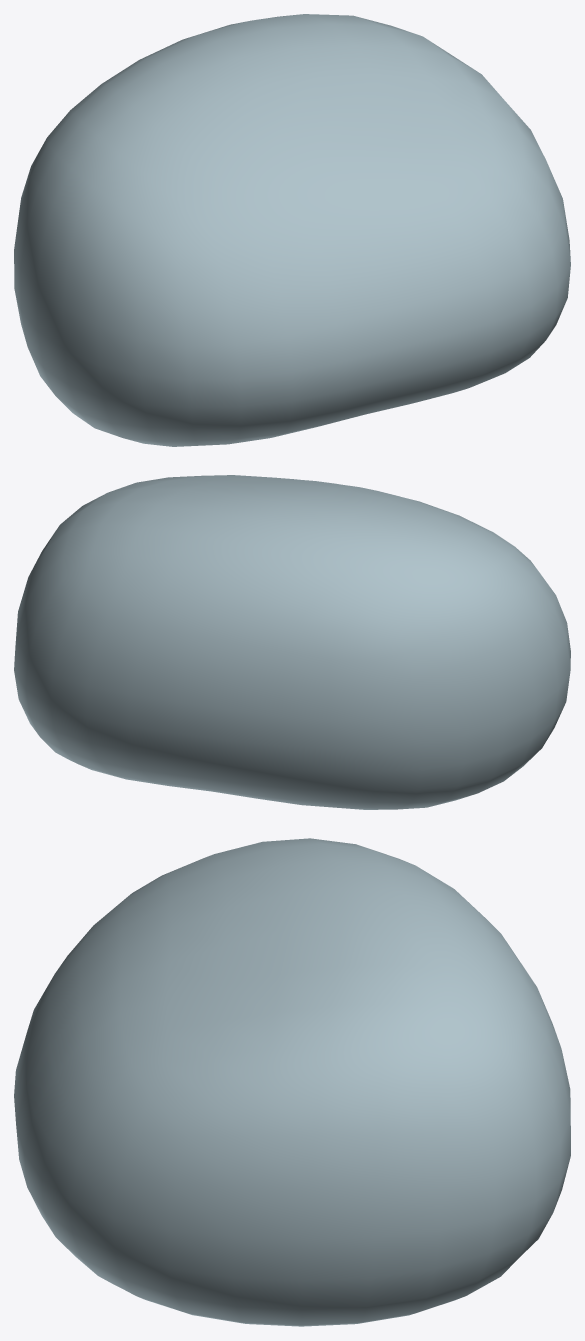
File: Rock_A_02.fbx
3 renders of one model, top to bottom at view 1: azimuth 30°, elevation 25°; view 2: azimuth 150°, elevation 25°; view 3: azimuth 270°, elevation 25°, orthographic. The views are drawn at different scales.
Visible parts, largest first — view 1: Rock_A_02_LOD0; view 2: Rock_A_02_LOD0; view 3: Rock_A_02_LOD0.
Part boxes in pixels (bbox=[...]): Rock_A_02_LOD0: bbox=[14, 14, 570, 446]; Rock_A_02_LOD0: bbox=[14, 475, 570, 809]; Rock_A_02_LOD0: bbox=[14, 838, 570, 1326].
Size of what is drawn, in the model's own units: 283 by 161 by 244.
